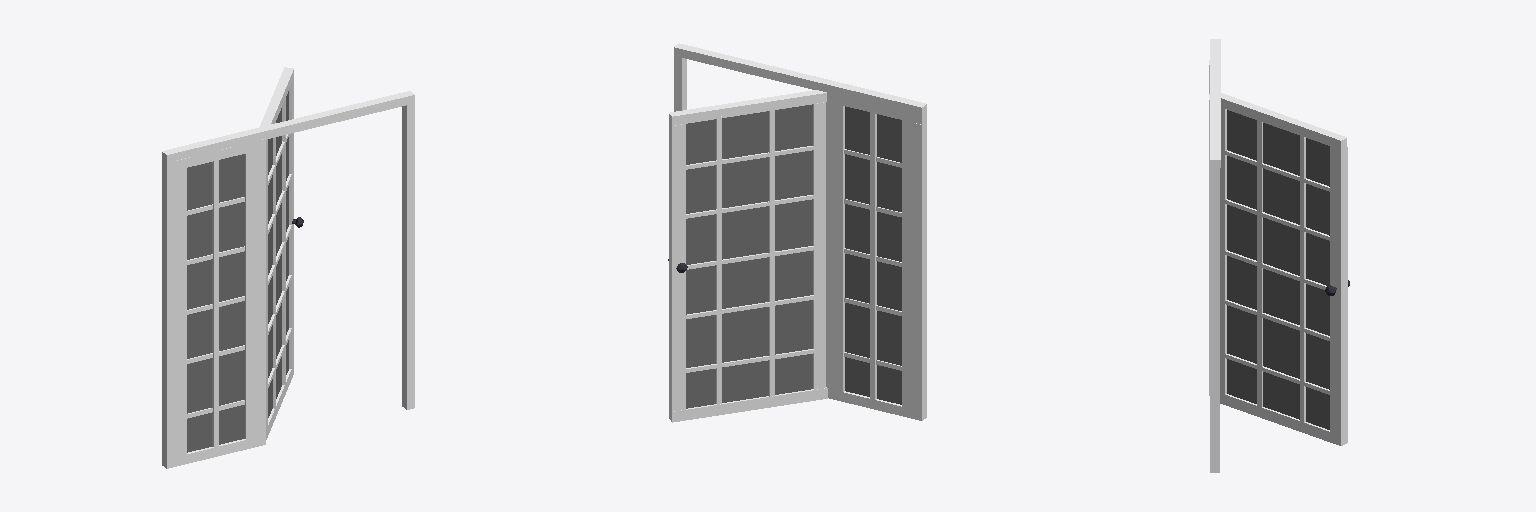
File: whitePatioDoorOpened.obj
The picture shows the model from 3 angles: view 1: azimuth 30°, elevation 25°; view 2: azimuth 150°, elevation 25°; view 3: azimuth 270°, elevation 25°; orthographic projection.
Parts seen in each view (by area): view 1: sweethome3d_window_pane_1, Cube_11_2, Cube_11_1, Cube_7, Cube_7_1, sweethome3d_window_pane, Cube_11, Cube_12, Cube_4_2, right, Cube_12_1, Cube_4 (+5 smaller); view 2: sweethome3d_window_pane, sweethome3d_window_pane_1, right, Cube_11_2, Cube_7, left, Cube_7_1, Cube_12, top, Cube_4_2, bottom, Cube_11 (+11 smaller); view 3: sweethome3d_window_pane, right, Cube_11_1, left, top, Cube_4_1, Cube_4, bottom, Cube_12.
Part boxes in pixels (bbox=[...]): sweethome3d_window_pane_1: bbox=[187, 154, 244, 452]; Cube_11_2: bbox=[162, 169, 175, 468]; Cube_11_1: bbox=[402, 101, 414, 409]; Cube_7: bbox=[245, 150, 256, 449]; Cube_7_1: bbox=[176, 168, 186, 466]; sweethome3d_window_pane: bbox=[268, 91, 288, 417]; Cube_11: bbox=[257, 139, 265, 446]; Cube_12: bbox=[252, 91, 414, 140]; Cube_4_2: bbox=[212, 160, 218, 447]; right: bbox=[289, 79, 293, 372]; Cube_12_1: bbox=[162, 129, 256, 162]; Cube_4: bbox=[282, 99, 285, 389]; sweethome3d_window_pane: bbox=[686, 104, 812, 408]; sweethome3d_window_pane_1: bbox=[845, 106, 901, 404]; right: bbox=[669, 123, 685, 416]; Cube_11_2: bbox=[913, 122, 926, 420]; Cube_7: bbox=[832, 103, 844, 401]; left: bbox=[813, 102, 825, 389]; Cube_7_1: bbox=[902, 120, 912, 418]; Cube_12: bbox=[674, 43, 835, 93]; top: bbox=[669, 90, 826, 125]; Cube_4_2: bbox=[870, 112, 876, 399]; bottom: bbox=[669, 387, 827, 422]; Cube_11: bbox=[826, 93, 831, 398]; sweethome3d_window_pane: bbox=[1227, 110, 1329, 429]; right: bbox=[1330, 146, 1347, 441]; Cube_11_1: bbox=[1210, 166, 1219, 472]; left: bbox=[1220, 108, 1226, 398]; top: bbox=[1221, 93, 1346, 149]; Cube_4_1: bbox=[1257, 120, 1262, 412]; Cube_4: bbox=[1300, 136, 1305, 427]; bottom: bbox=[1220, 394, 1347, 445]; Cube_12: bbox=[1210, 83, 1220, 167].
Size of the model in its own units: 12.33 by 14.87 by 6.06.